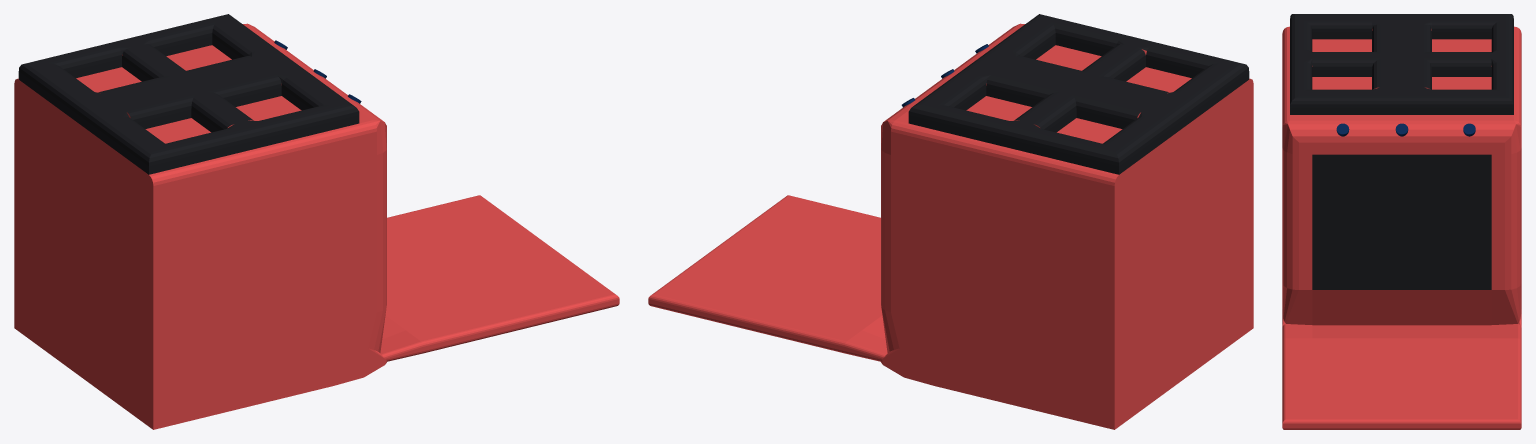
File: oven.fbx
The picture shows the model from 3 angles, left to right: view 1: azimuth 30°, elevation 25°; view 2: azimuth 150°, elevation 25°; view 3: azimuth 270°, elevation 25°; orthographic projection. The views are drawn at different scales.
Parts seen in each view (by area): view 1: Stovetop; view 2: Stovetop; view 3: Stovetop.
Boxes of the visible parts, x1,y1,x2,y2 form: Stovetop: [14, 14, 619, 429]; Stovetop: [648, 14, 1253, 429]; Stovetop: [1282, 14, 1521, 429].
Bounding box in the file's own units: 1698 × 937 × 877.
